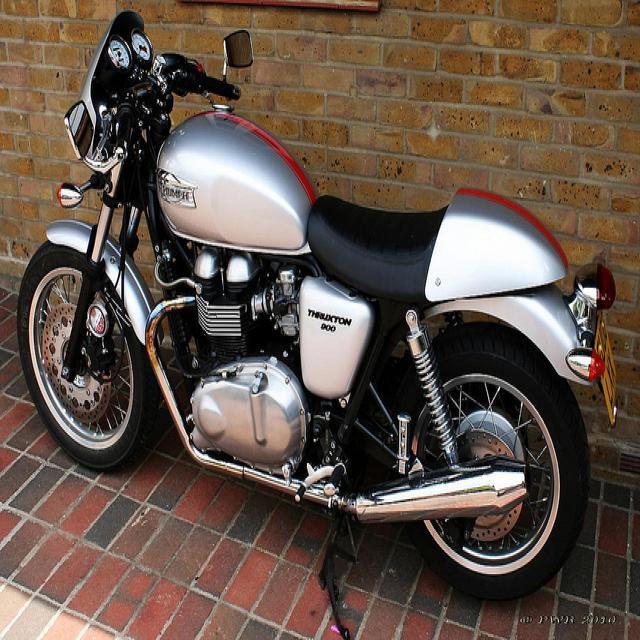motor: (15, 6, 622, 639)
